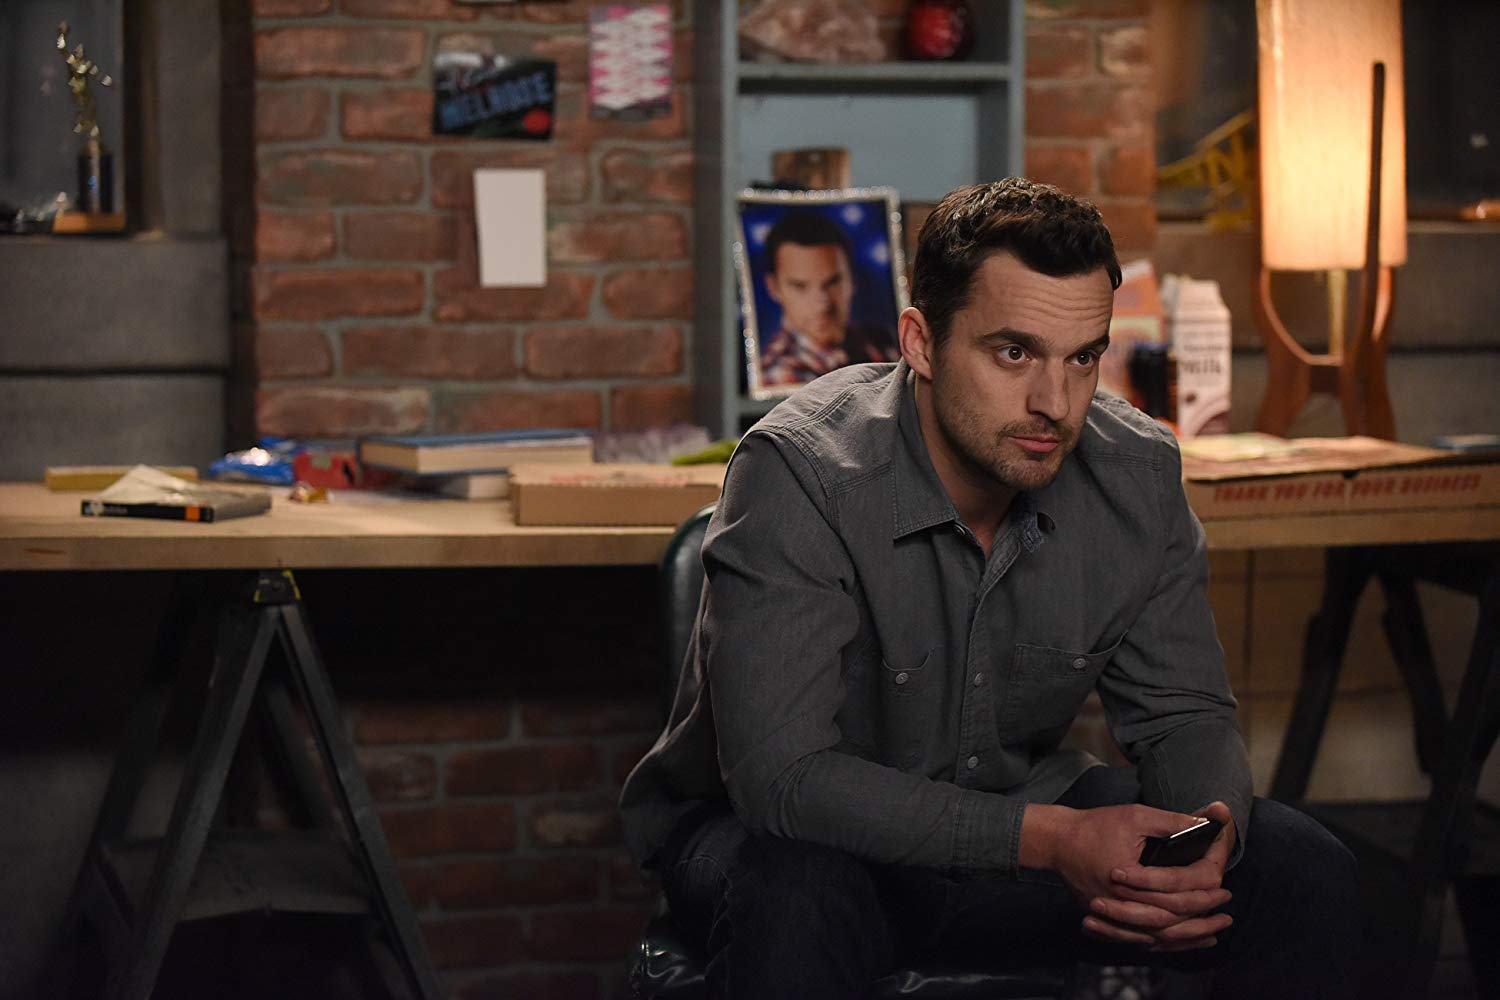person: (687, 179, 1386, 994)
